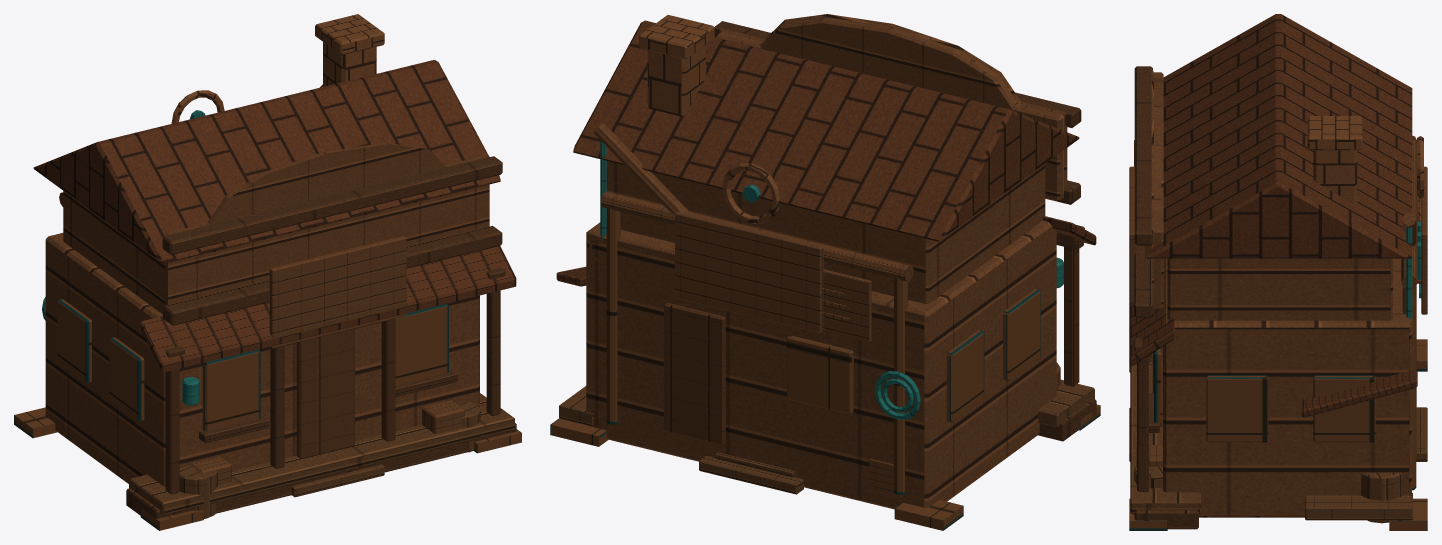
The model's file is general-store.e7.glb.
The picture shows the model from 3 angles, left to right: view 1: azimuth 30°, elevation 25°; view 2: azimuth 150°, elevation 25°; view 3: azimuth 270°, elevation 25°; orthographic projection. The views are drawn at different scales.
Visible parts, largest first — view 1: GeneralStoreE7; view 2: GeneralStoreE7; view 3: GeneralStoreE7.
Boxes of the visible parts, x1,y1,x2,y2 form: GeneralStoreE7: [14, 14, 521, 530]; GeneralStoreE7: [550, 14, 1100, 530]; GeneralStoreE7: [1129, 14, 1427, 530].
Bounding box in the file's own units: 4.7 × 4.44 × 3.26.
Materials: 1 (1 with a texture image).
